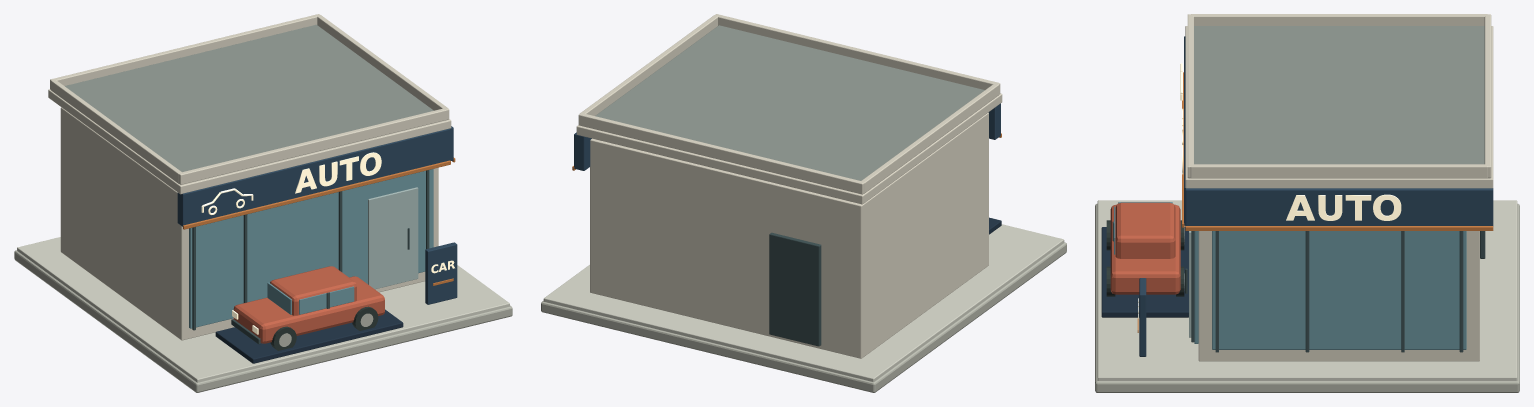
Rendered from small-2x2-auto-02.glb.
3 renders of one model, left to right at view 1: azimuth 30°, elevation 25°; view 2: azimuth 150°, elevation 25°; view 3: azimuth 270°, elevation 25°, orthographic. The views are drawn at different scales.
Visible parts, largest first — view 1: RoofDeck, Showroom, FrontGlass, Paving, FrontFascia, Lot_2x2, Door, Roof, CarBody, Parapet, DisplayPlinth, Parapet.001 (+8 smaller); view 2: Showroom, RoofDeck, Paving, Lot_2x2, RearDoor, Roof, Parapet.001, Parapet, Parapet.002, Parapet.003, SideFascia; view 3: RoofDeck, SideGlass, Paving, SideFascia, Showroom, Lot_2x2, Parapet.003, Roof, Parapet.002, CarCabin, CarBody, DisplayPlinth (+12 smaller).
Boxes of the visible parts, x1=… form: RoofDeck: x1=65, y1=24, x2=433, y2=171; Showroom: x1=60, y1=107, x2=438, y2=340; FrontGlass: x1=189, y1=169, x2=433, y2=328; Paving: x1=17, y1=237, x2=509, y2=382; FrontFascia: x1=177, y1=129, x2=449, y2=226; Lot_2x2: x1=14, y1=250, x2=512, y2=392; Door: x1=368, y1=187, x2=418, y2=289; Roof: x1=48, y1=89, x2=451, y2=194; CarBody: x1=233, y1=276, x2=384, y2=343; Parapet: x1=179, y1=108, x2=449, y2=184; DisplayPlinth: x1=215, y1=309, x2=403, y2=363; Parapet.001: x1=50, y1=14, x2=320, y2=89; Showroom: x1=590, y1=112, x2=988, y2=358; RoofDeck: x1=595, y1=25, x2=984, y2=180; Paving: x1=543, y1=224, x2=1064, y2=381; Lot_2x2: x1=541, y1=242, x2=1066, y2=392; RearDoor: x1=769, y1=232, x2=821, y2=346; Roof: x1=576, y1=93, x2=1002, y2=204; Parapet.001: x1=578, y1=113, x2=863, y2=194; Parapet: x1=715, y1=14, x2=1000, y2=93; Parapet.002: x1=861, y1=83, x2=999, y2=193; Parapet.003: x1=580, y1=15, x2=717, y2=115; SideFascia: x1=574, y1=132, x2=591, y2=170; RoofDeck: x1=1194, y1=26, x2=1484, y2=164; SideGlass: x1=1212, y1=231, x2=1466, y2=349; Paving: x1=1097, y1=200, x2=1517, y2=380; SideFascia: x1=1185, y1=188, x2=1493, y2=225; Showroom: x1=1198, y1=231, x2=1479, y2=361; Lot_2x2: x1=1095, y1=203, x2=1519, y2=392; Parapet.003: x1=1190, y1=164, x2=1487, y2=178; Roof: x1=1185, y1=26, x2=1493, y2=188; Parapet.002: x1=1191, y1=14, x2=1487, y2=25; CarCabin: x1=1115, y1=202, x2=1175, y2=258; CarBody: x1=1110, y1=204, x2=1180, y2=294; DisplayPlinth: x1=1101, y1=227, x2=1188, y2=317.
Size of the model in its own units: 8 by 4.44 by 8.
